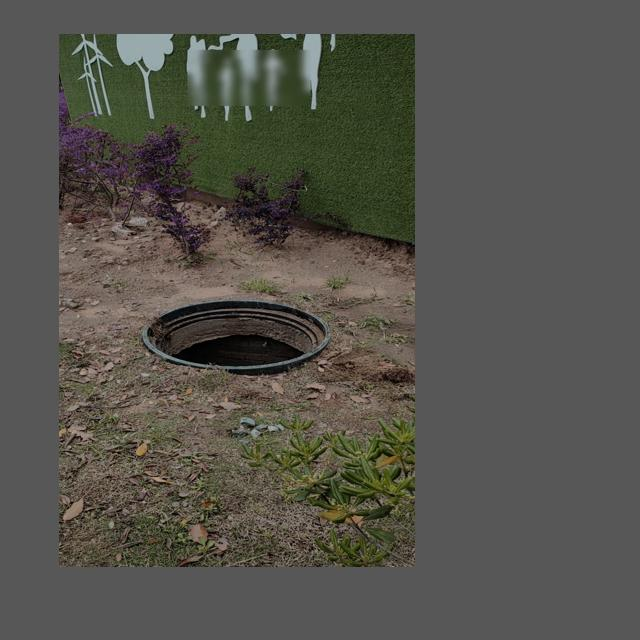lose: (137, 297, 330, 373)
